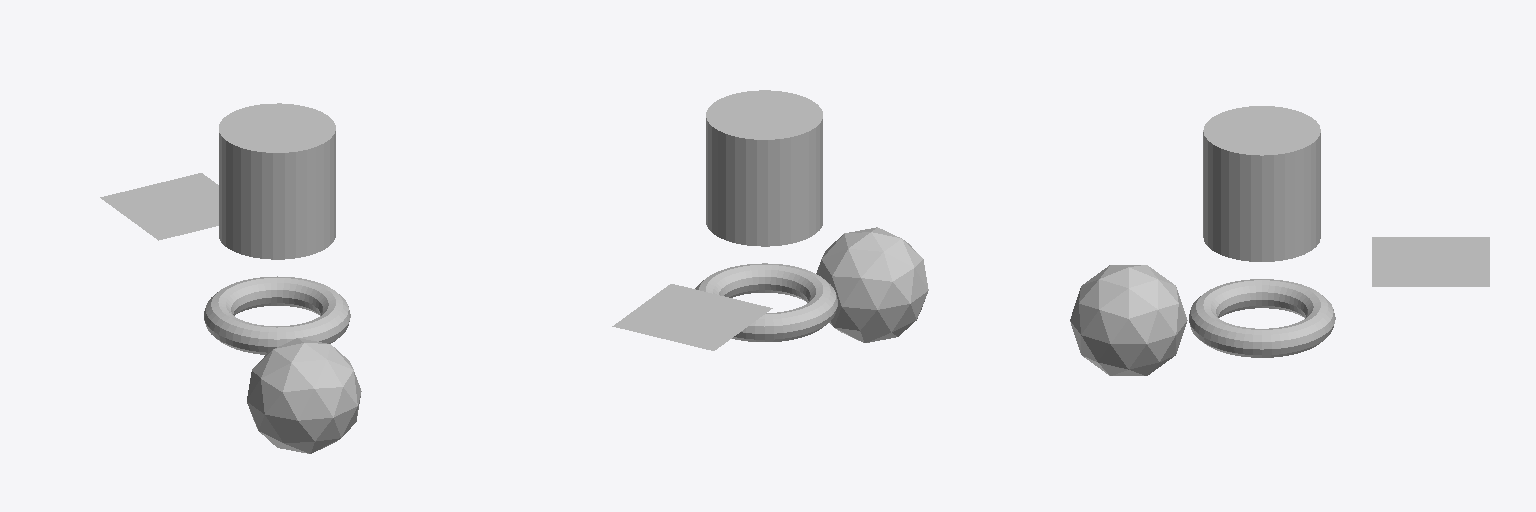
Rendered from std.obj.
The picture shows the model from 3 angles: view 1: azimuth 30°, elevation 25°; view 2: azimuth 150°, elevation 25°; view 3: azimuth 270°, elevation 25°; orthographic projection.
Parts seen in each view (by area): view 1: Cylinder, Icosphere, Torus, Grid; view 2: Cylinder, Icosphere, Torus, Grid; view 3: Cylinder, Icosphere, Torus, Grid.
Boxes of the visible parts, box(x1,y1,x2,y2) form: Cylinder: box(219, 103, 335, 259); Icosphere: box(247, 338, 361, 453); Torus: box(204, 276, 350, 354); Grid: box(100, 173, 218, 240); Cylinder: box(706, 90, 822, 246); Icosphere: box(816, 227, 928, 342); Torus: box(695, 263, 837, 341); Grid: box(612, 284, 772, 350); Cylinder: box(1203, 106, 1320, 261); Icosphere: box(1070, 265, 1187, 375); Torus: box(1189, 279, 1335, 357); Grid: box(1372, 237, 1489, 286).
Bounding box in the file's own units: 2.98 × 4.93 × 7.14.